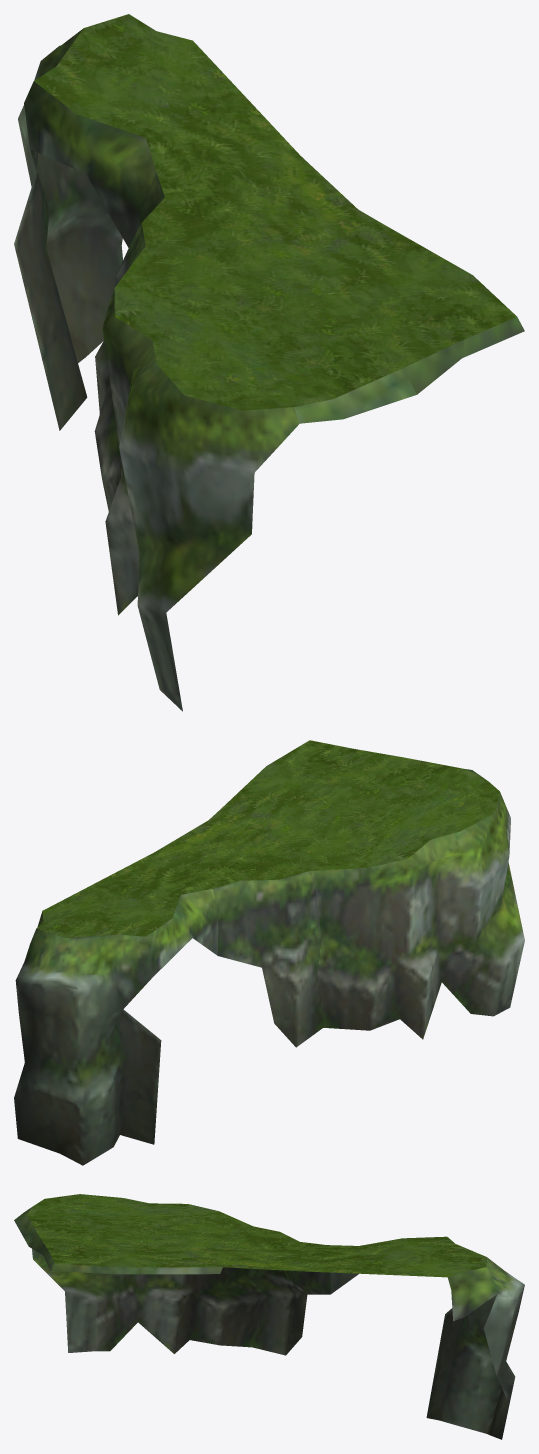
The model's file is S_Rock_Green058_H4.FBX.
3 renders of one model, top to bottom at view 1: azimuth 30°, elevation 25°; view 2: azimuth 150°, elevation 25°; view 3: azimuth 270°, elevation 25°, orthographic. The views are drawn at different scales.
Parts seen in each view (by area): view 1: S_Rock_Green058_H4_2, S_Rock_Green058_H4_1; view 2: S_Rock_Green058_H4_1, S_Rock_Green058_H4_2; view 3: S_Rock_Green058_H4_1, S_Rock_Green058_H4_2.
Part boxes in pixels (box(x1,y1,x2,y2)): S_Rock_Green058_H4_2: box(34, 14, 516, 410); S_Rock_Green058_H4_1: box(14, 28, 524, 711); S_Rock_Green058_H4_1: box(14, 769, 524, 1165); S_Rock_Green058_H4_2: box(36, 740, 499, 937); S_Rock_Green058_H4_1: box(14, 1208, 524, 1439); S_Rock_Green058_H4_2: box(27, 1194, 486, 1277).
Bounding box in the file's own units: 1321 × 1124 × 2801.
